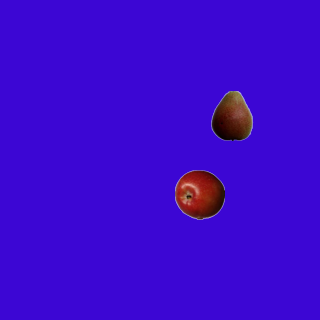Apple Braeburn: (174, 169, 224, 219)
Pear Forelle: (206, 90, 256, 140)
